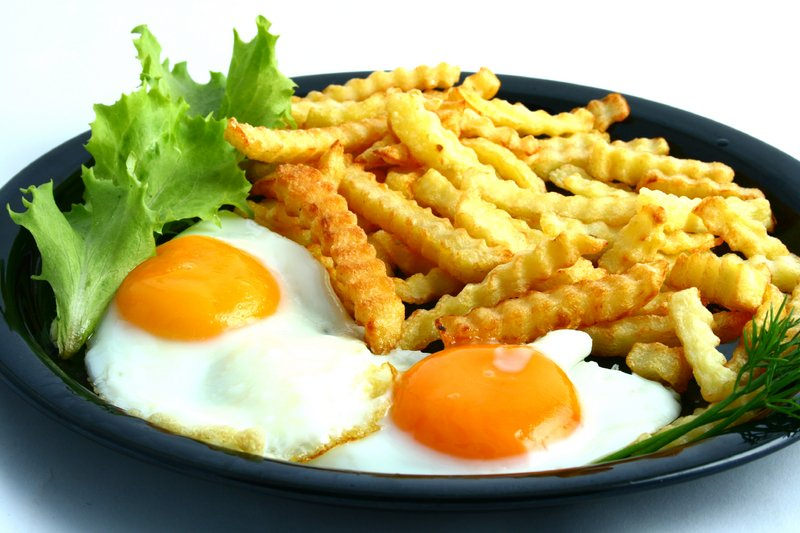chopped lettuce: (128, 46, 238, 222)
fried egg: (136, 240, 600, 462)
